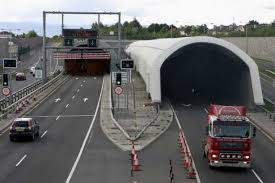bridge: (126, 35, 264, 106), (60, 36, 115, 73)
